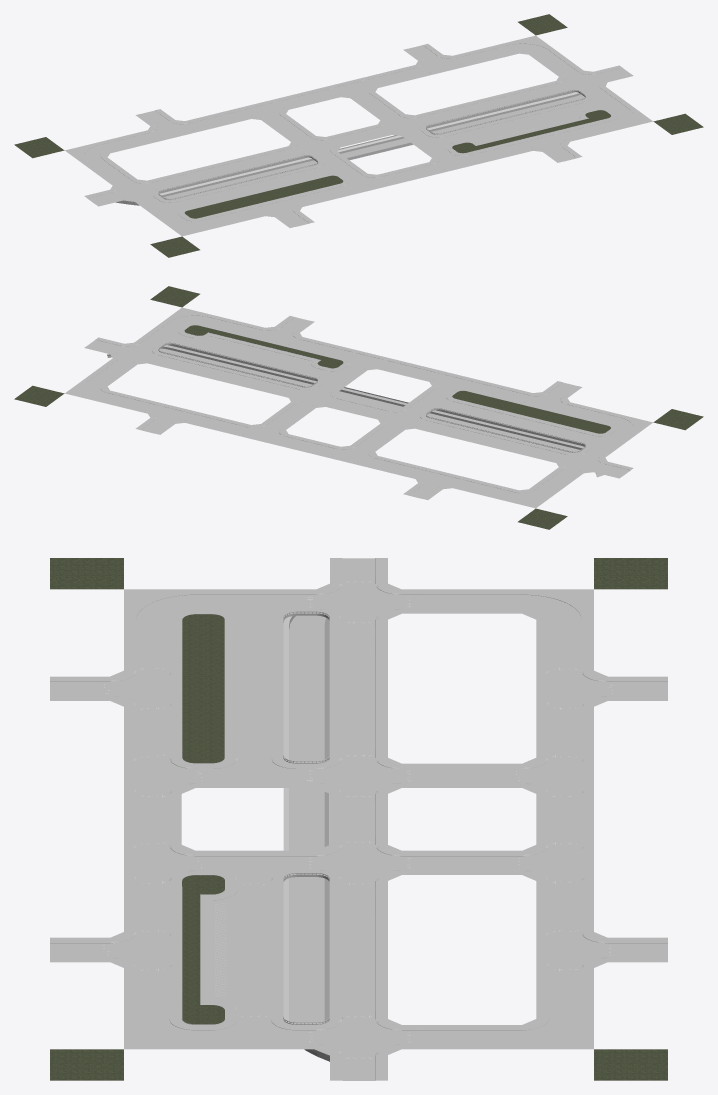
The model's file is Double-Block-09.fbx.
3 views of the same model, one above another, from view 1: azimuth 30°, elevation 25°; view 2: azimuth 150°, elevation 25°; view 3: azimuth 270°, elevation 25° (orthographic). The views are drawn at different scales.
Visible parts, largest first — view 1: Double-Block-09, Double-Block-09-B, Double-Block-09-Sidewalk-B, Double-Block-09-Sidewalk, Water-B, Water; view 2: Double-Block-09-B, Double-Block-09, Double-Block-09-Sidewalk-B, Double-Block-09-Sidewalk, Water-B, Water; view 3: Double-Block-09, Double-Block-09-B, Double-Block-09-Sidewalk-B, Double-Block-09-Sidewalk, Water, Water-B.
Part boxes in pixels (<box>): Double-Block-09: <box>14,95,414,257</box>; Double-Block-09-B: <box>303,14,703,176</box>; Double-Block-09-Sidewalk-B: <box>300,35,652,178</box>; Double-Block-09-Sidewalk: <box>65,93,417,236</box>; Water-B: <box>368,94,584,151</box>; Water: <box>124,147,372,201</box>; Double-Block-09-B: <box>14,286,414,448</box>; Double-Block-09: <box>303,367,703,529</box>; Double-Block-09-Sidewalk-B: <box>65,307,417,450</box>; Double-Block-09-Sidewalk: <box>300,365,652,508</box>; Water-B: <box>159,348,375,403</box>; Water: <box>372,400,603,477</box>; Double-Block-09: <box>50,558,667,824</box>; Double-Block-09-B: <box>50,819,667,1080</box>; Double-Block-09-Sidewalk-B: <box>50,819,667,1080</box>; Double-Block-09-Sidewalk: <box>50,558,667,819</box>; Water: <box>289,615,326,829</box>; Water-B: <box>289,829,329,1055</box>.
Size of what is drawn, in the model's own units: 600 by 6.61 by 300.
